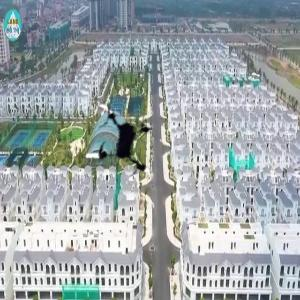drone: (74, 99, 162, 187)
